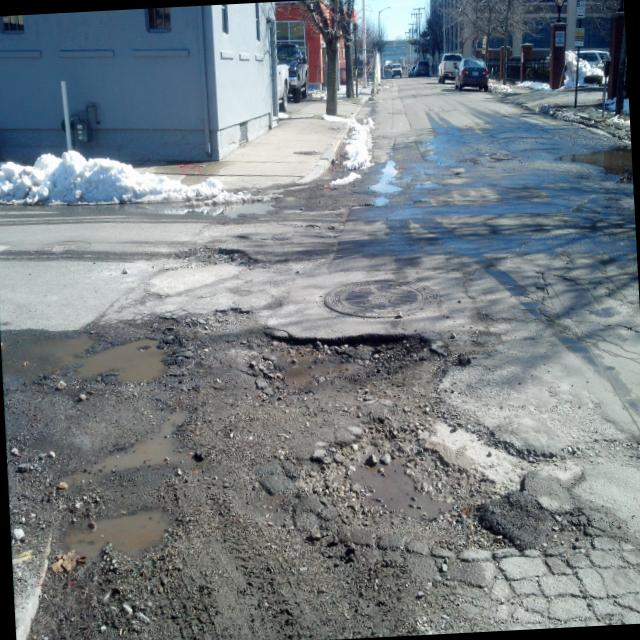Potholes: (0, 274, 592, 640), (194, 185, 309, 286)
